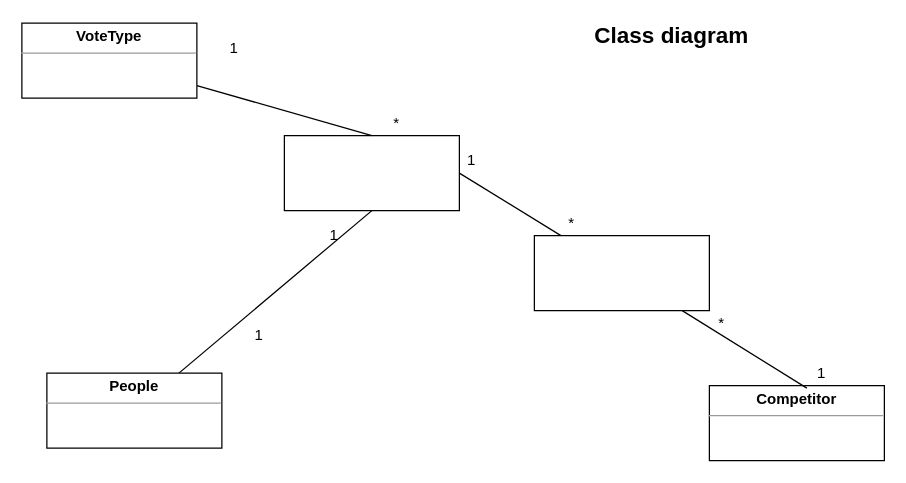
Image size: 906x483. Some labels were removed from this diagram. Here are the shapes that lost their labels. From the top down, the box of each, then its label:
(283, 134, 459, 211): Vote
(533, 234, 709, 311): VoteId
